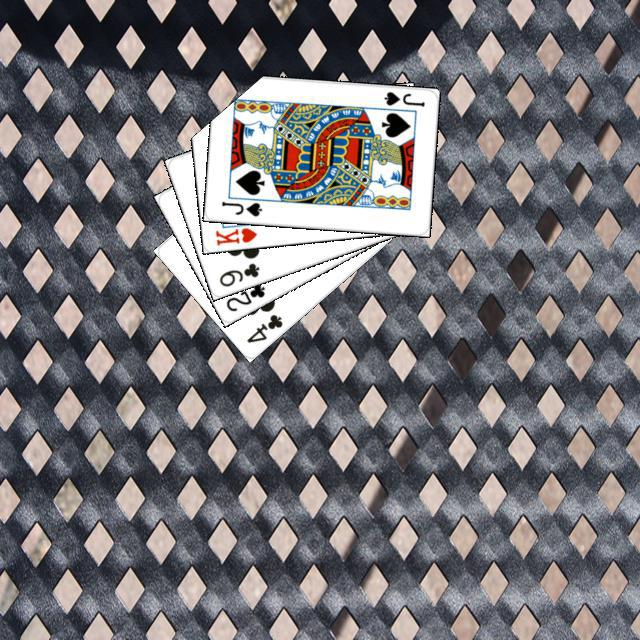2c: (221, 278, 266, 313)
4c: (242, 309, 284, 345)
9c: (214, 258, 261, 288)
Js: (216, 197, 263, 218), (379, 87, 426, 108)
Kh: (210, 218, 262, 247)
